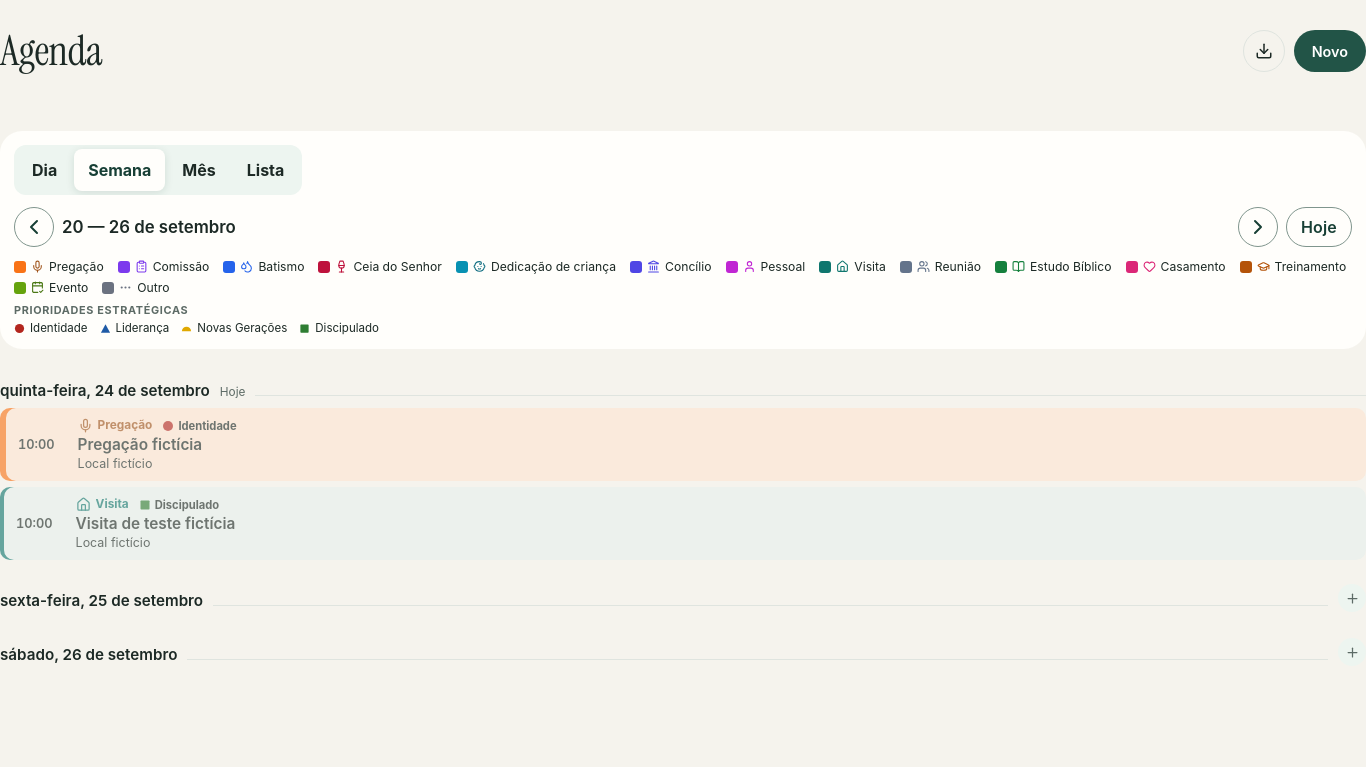
Test case: agenda visual › mostra categoria com nome e ícone, e as ações de visita, sermão e itinerário
This screenshot has width=1366, height=767.
Expected: the tab "Semana" is shown, [74,149,165,191]
What coordinates should you click on to do the following:
click the tab "Lista"
I would click on:
 (266, 170)
Its box is [233,149,298,191].
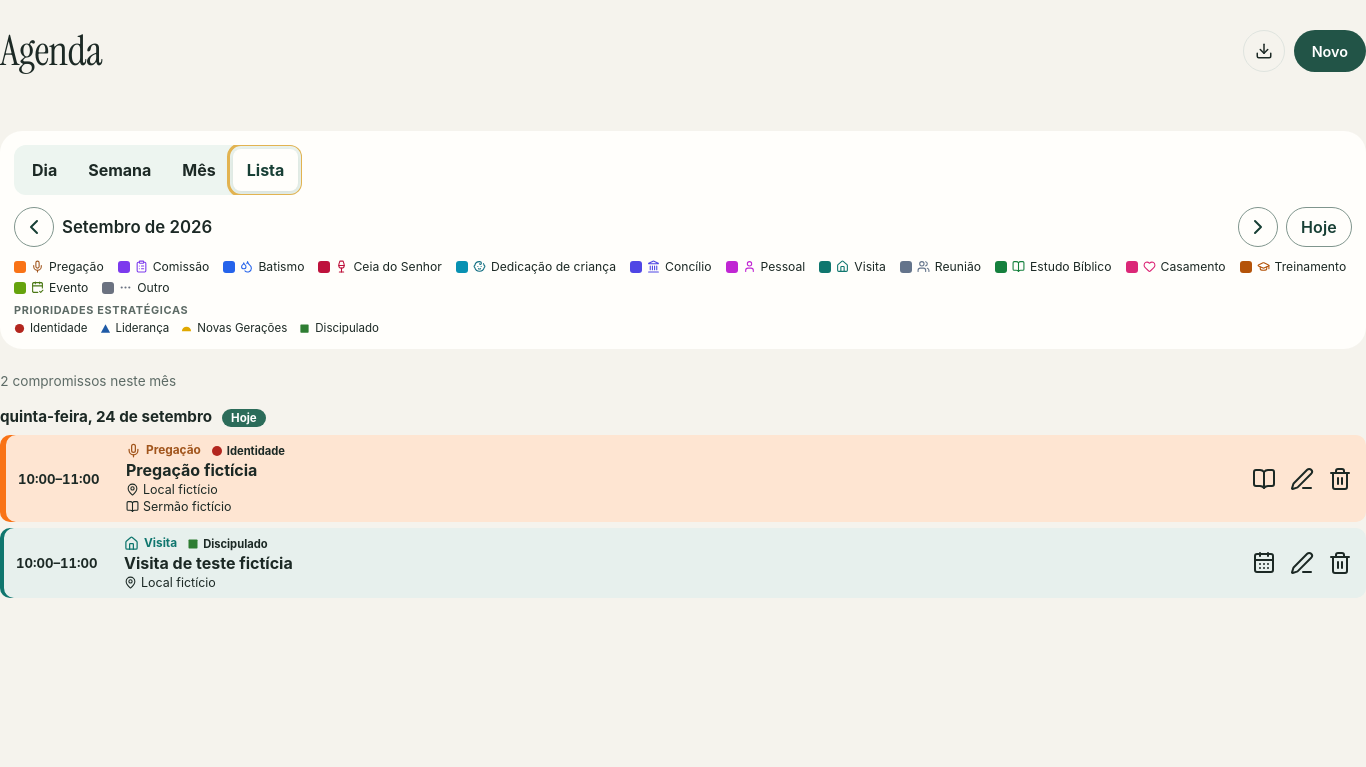
Expected: the text "Pregação" below "quinta-feira, 24 de setembro" is shown, [146,443,201,457]
What coordinates should you click on to do the following:
click the button named "Itinerário"
I would click on:
 (1264, 51)
Its box is [1243,30,1285,72].
(page scrolled)
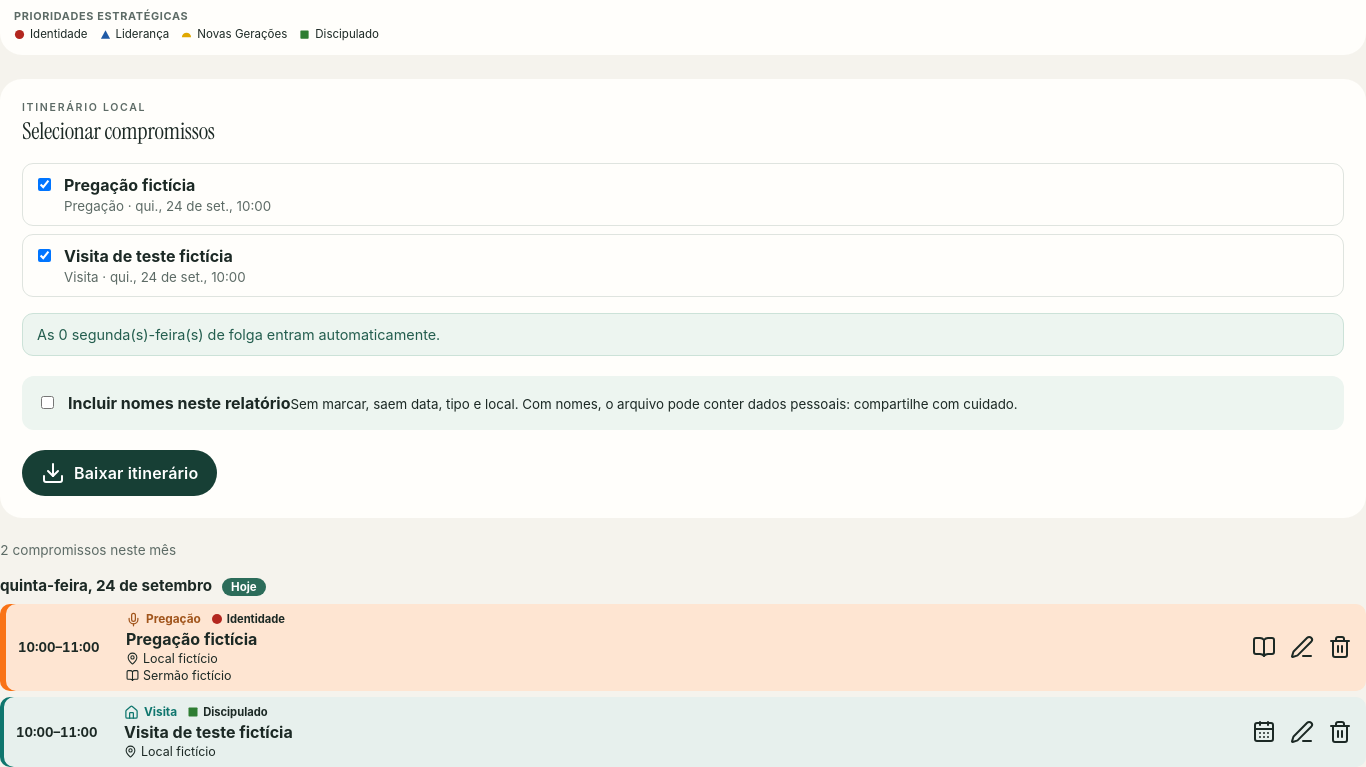
Now the button "Baixar itinerário" is shown, box [22,450,217,496]
